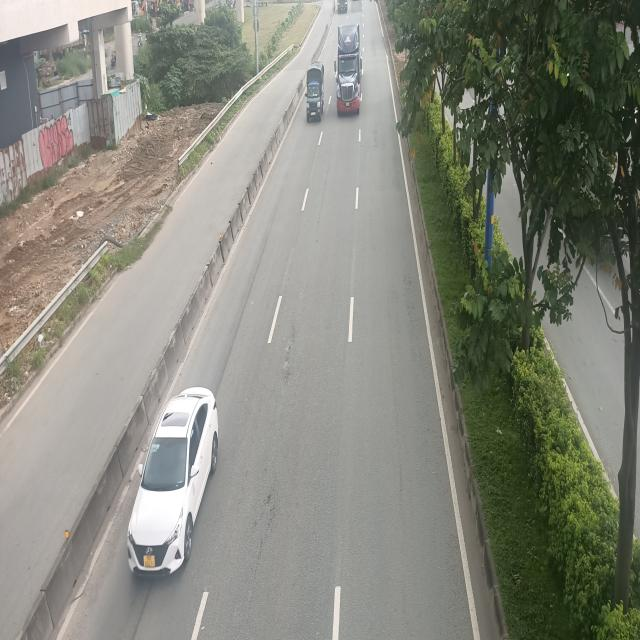car: (126, 390, 218, 576)
container: (336, 19, 362, 112)
truck: (305, 61, 324, 122)
